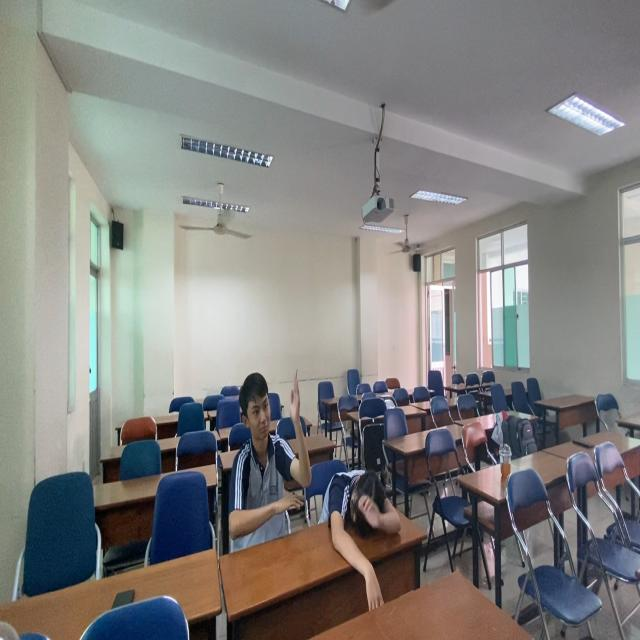raise_hand: (223, 373, 314, 542)
sleep: (325, 460, 406, 612)
